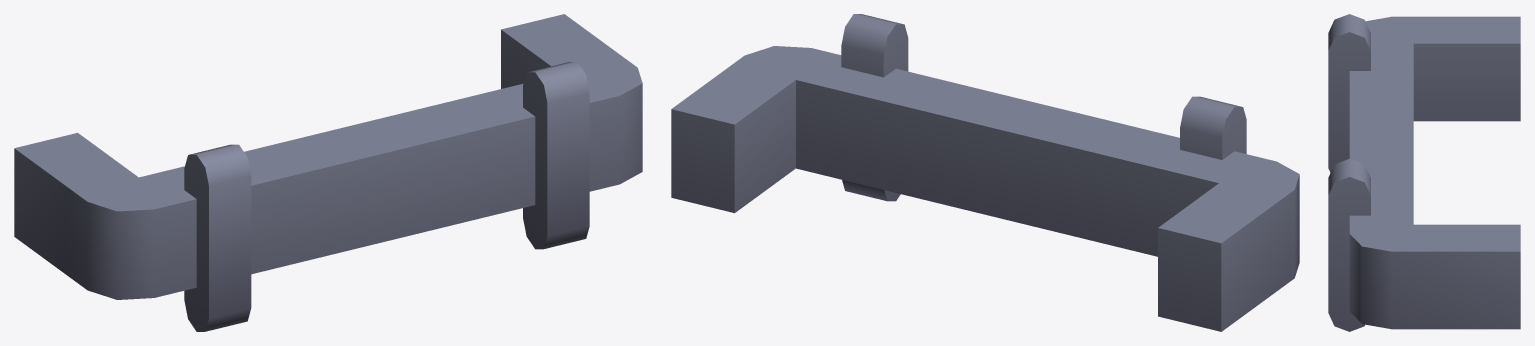
File: debris-bumper.glb
3 renders of one model, left to right at view 1: azimuth 30°, elevation 25°; view 2: azimuth 150°, elevation 25°; view 3: azimuth 270°, elevation 25°, orthographic. The views are drawn at different scales.
Visible parts, largest first — view 1: debris-bumper; view 2: debris-bumper; view 3: debris-bumper.
Part boxes in pixels (x1,y1,x2,y2): debris-bumper: (14,14,642,331); debris-bumper: (671,14,1299,331); debris-bumper: (1328,14,1520,331).
Bounding box in the file's own units: 0.7 × 0.2154 × 0.2423.
Materials: 1 (1 with a texture image).
